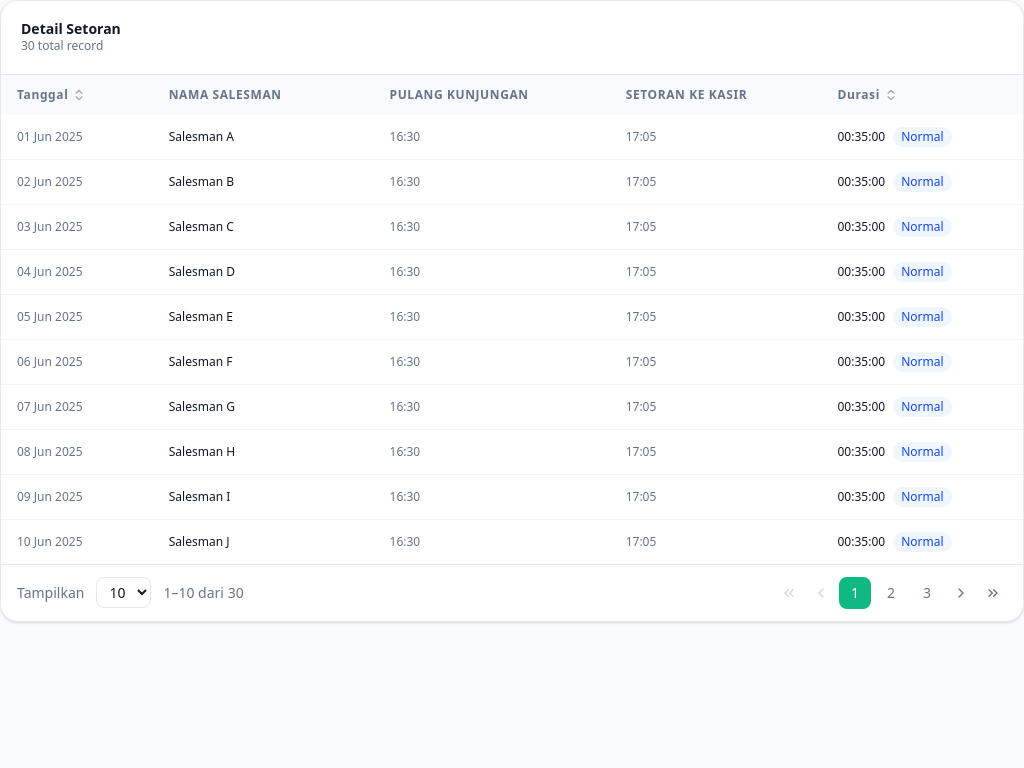
Test: Pagination › changes page size and resets to page 1
// Navigate to page 2 first
Step 1. Click the button named "Halaman berikutnya" → (961, 593), box [947,579,975,607]
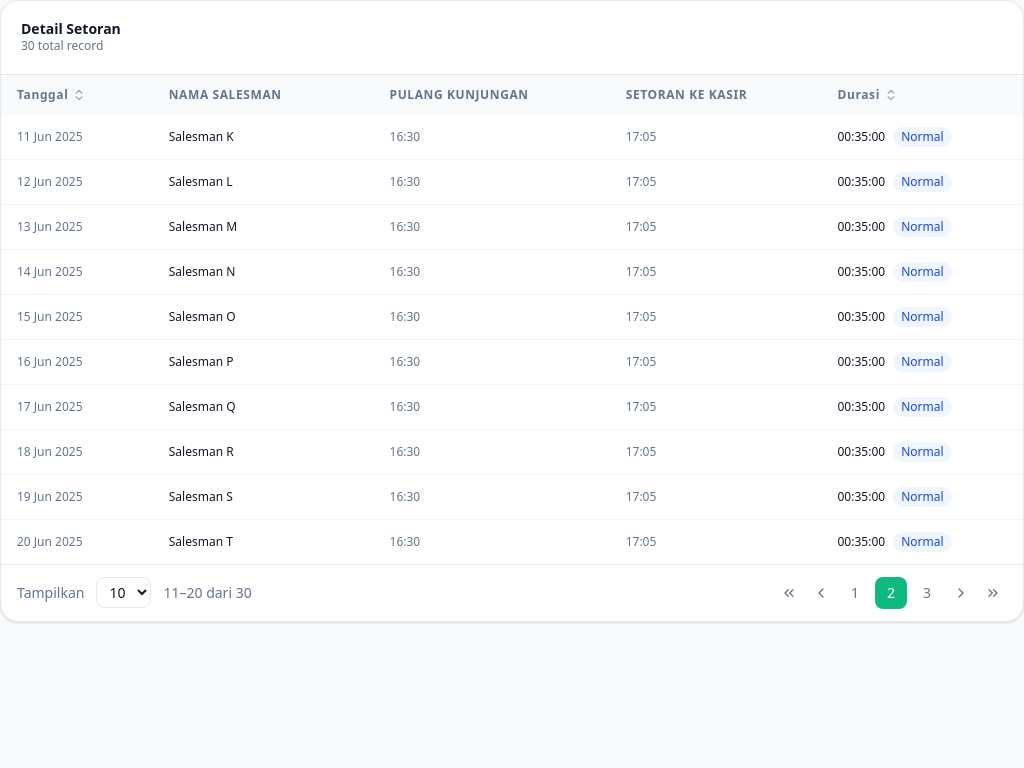
Expected: the button named "Halaman 2" is shown, [875,577,907,609]
// Change page size to 25
Step 2. Select "25" in the dropdown named "baris per halaman" → (124, 593), box [96,577,151,608]
(page scrolled)
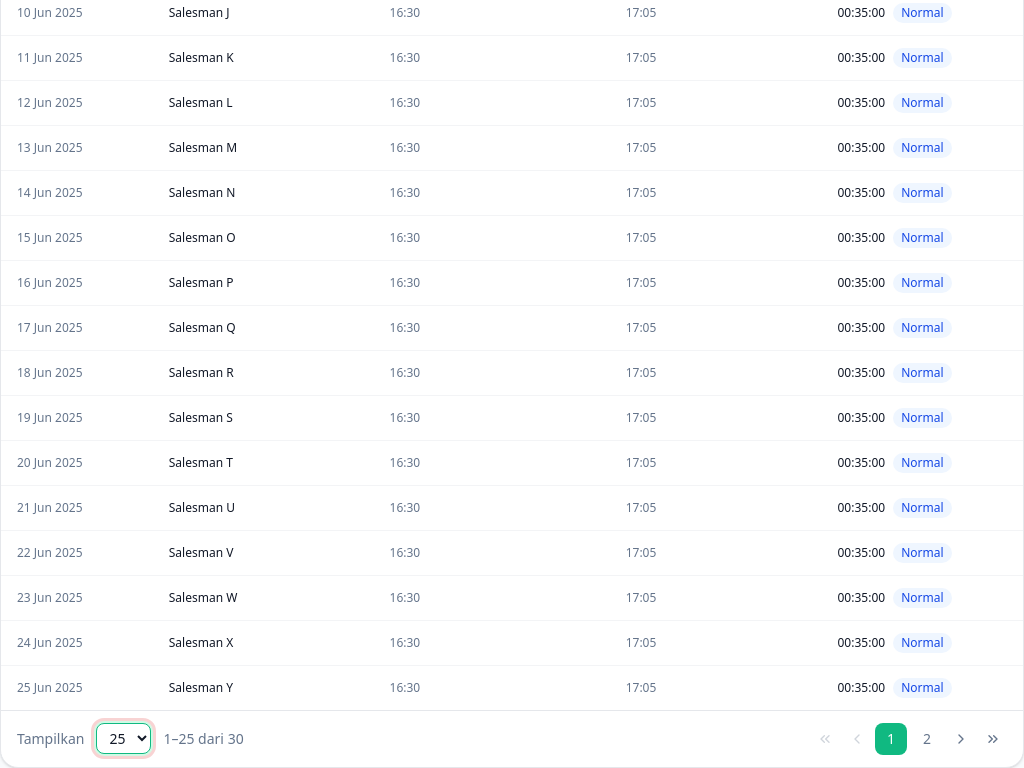
Expected: the button named "Halaman 1" is shown, [875,723,907,755]
Expected: the text "1–25 dari 30" is shown, [163,729,244,749]
